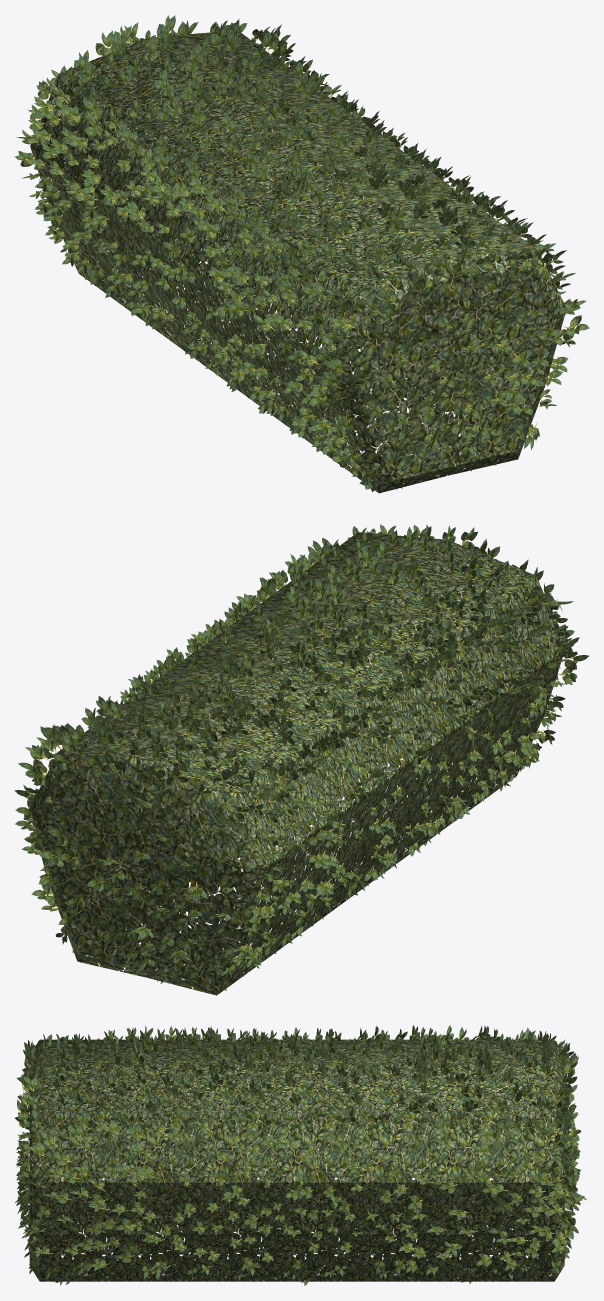
The model's file is BurfordHolly_Low.fbx.
3 renders of one model, top to bottom at view 1: azimuth 30°, elevation 25°; view 2: azimuth 150°, elevation 25°; view 3: azimuth 270°, elevation 25°, orthographic. The views are drawn at different scales.
Parts seen in each view (by area): view 1: BurfordHolly_Low; view 2: BurfordHolly_Low; view 3: BurfordHolly_Low.
Boxes of the visible parts, <box> form: BurfordHolly_Low: <box>14,15,589,493</box>; BurfordHolly_Low: <box>14,524,589,995</box>; BurfordHolly_Low: <box>15,1025,586,1285</box>.
Bounding box in the file's own units: 52.15 × 43.78 × 108.
